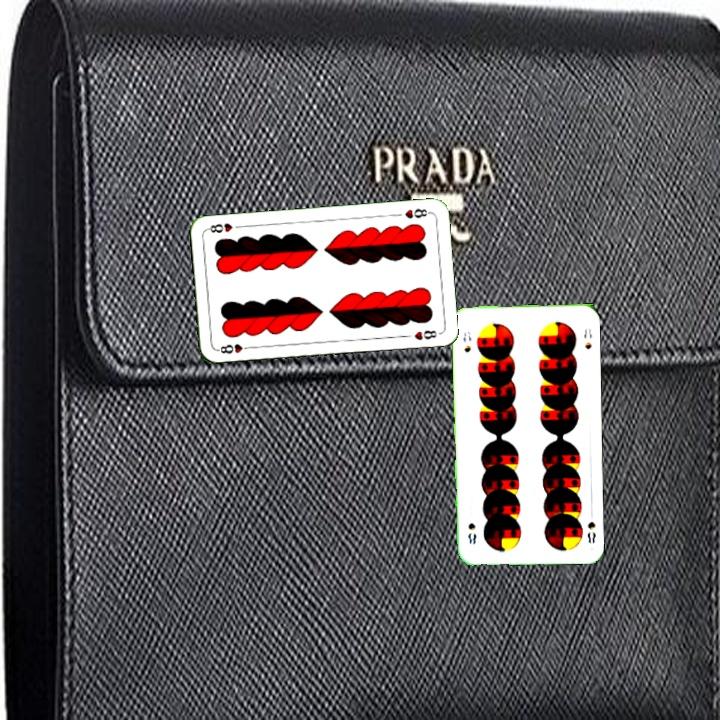H8: (213, 340, 254, 356), (401, 204, 433, 221)
S8: (583, 507, 598, 545), (459, 328, 474, 355)
